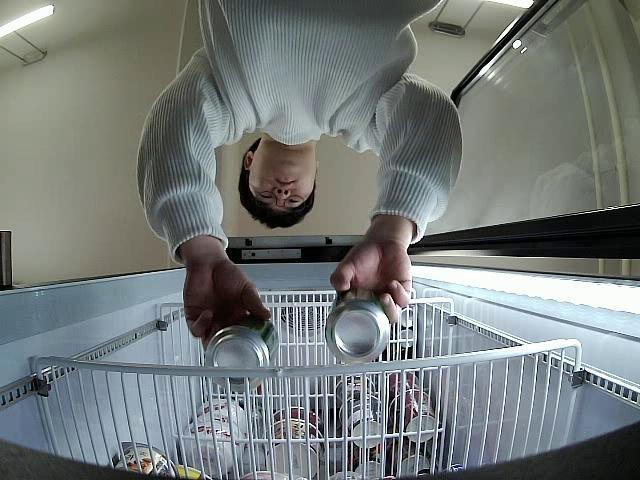12_chilsungCider: (204, 314, 279, 390), (321, 286, 394, 364)
